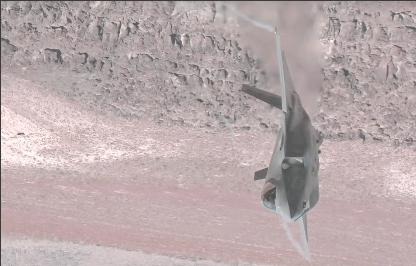F22: (240, 25, 322, 262)
